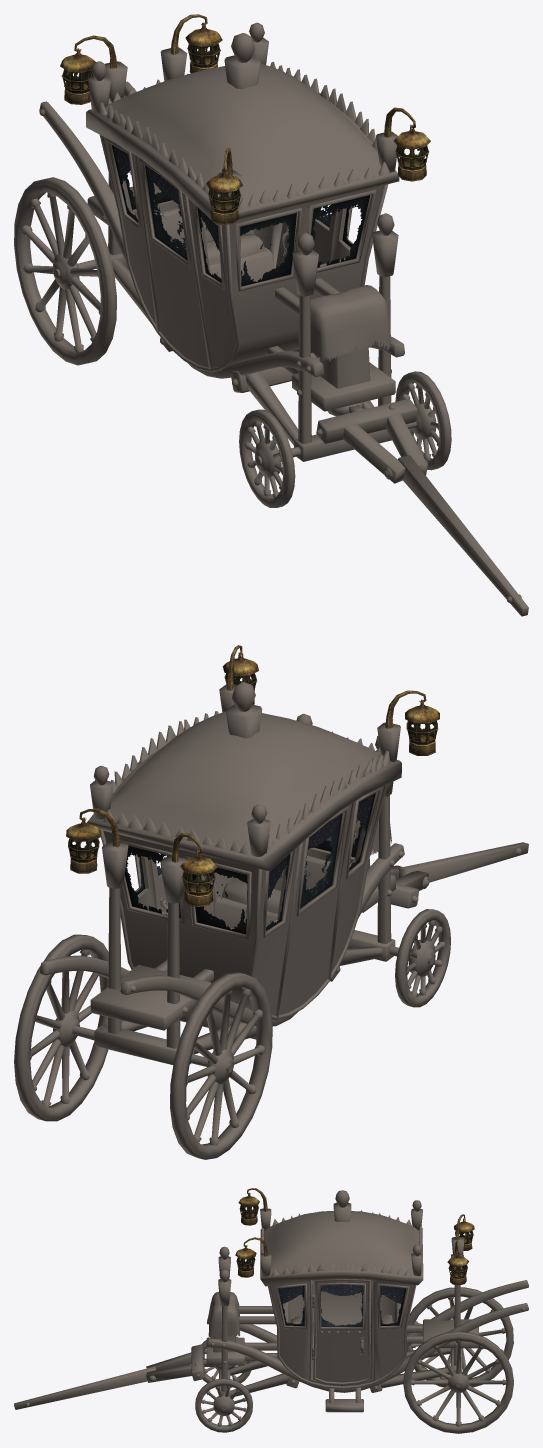
The model's file is Coach.FBX.
3 renders of one model, top to bottom at view 1: azimuth 30°, elevation 25°; view 2: azimuth 150°, elevation 25°; view 3: azimuth 270°, elevation 25°, orthographic. The views are drawn at different scales.
Visible parts, largest first — view 1: Coach; view 2: Coach; view 3: Coach.
Boxes of the visible parts, <box> form: Coach: <box>14,14,528,616</box>; Coach: <box>14,645,528,1159</box>; Coach: <box>14,1188,528,1433</box>.
Size of the model in its own units: 201 by 336 by 712.
